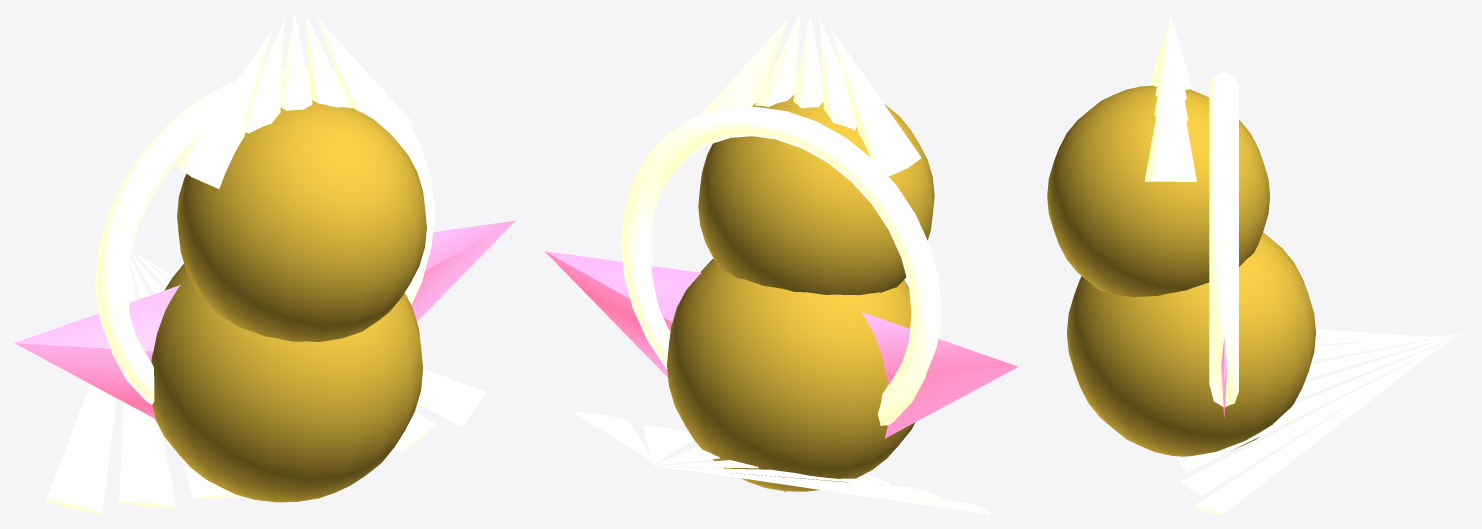
Rendered from solas_stage3.glb.
The picture shows the model from 3 angles, left to right: view 1: azimuth 30°, elevation 25°; view 2: azimuth 150°, elevation 25°; view 3: azimuth 270°, elevation 25°; orthographic projection. The views are drawn at different scales.
Parts seen in each view (by area): view 1: Head, Body, Solas_S3; view 2: Body, Head, Solas_S3; view 3: Body, Head, Solas_S3.
Part boxes in pixels (x1,y1,x2,y2): Head: (177,14,426,341); Body: (95,68,434,502); Solas_S3: (14,220,515,514); Body: (621,106,941,491); Head: (698,14,934,295); Solas_S3: (544,251,1017,514); Body: (1067,72,1315,456); Head: (1047,14,1269,296); Solas_S3: (1177,329,1465,514).
Size of the model in its own units: 2.12 by 1.95 by 1.73.
